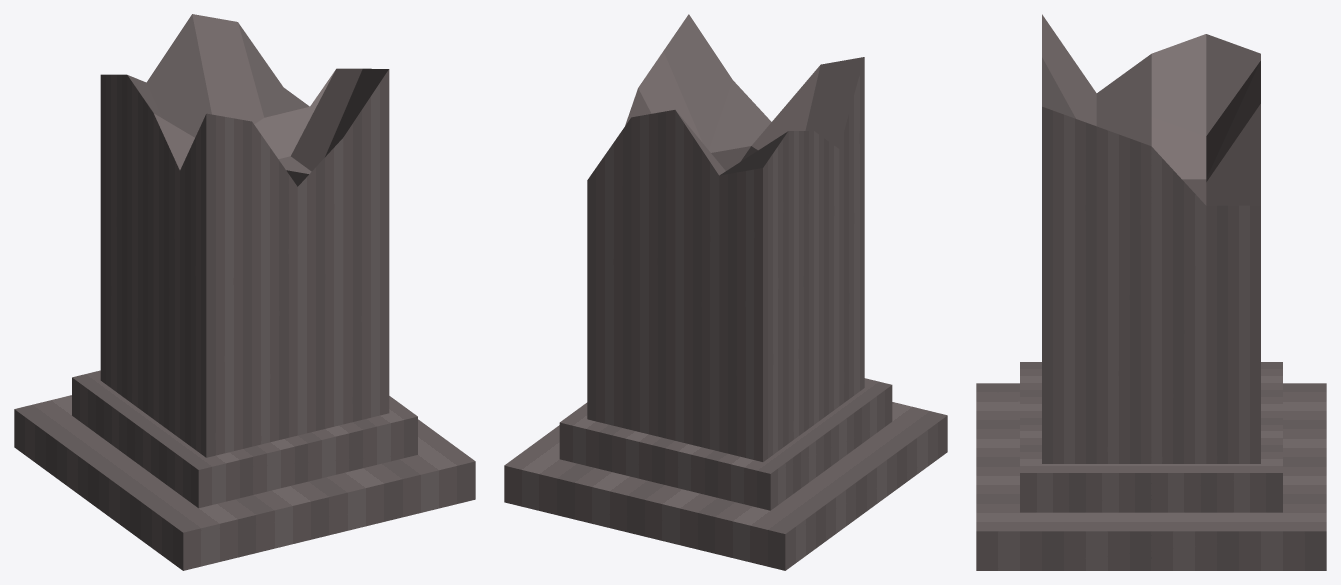
Rendered from Pillar1.obj.
3 renders of one model, left to right at view 1: azimuth 30°, elevation 25°; view 2: azimuth 150°, elevation 25°; view 3: azimuth 270°, elevation 25°, orthographic. The views are drawn at different scales.
Parts seen in each view (by area): view 1: cuboid; view 2: cuboid; view 3: cuboid.
Boxes of the visible parts, x1,y1,x2,y2 form: cuboid: (14, 14, 475, 570); cuboid: (504, 14, 947, 570); cuboid: (976, 14, 1326, 570).
Size of the model in its own units: 1 by 1.38 by 1.
Materials: 2 (2 with a texture image).
